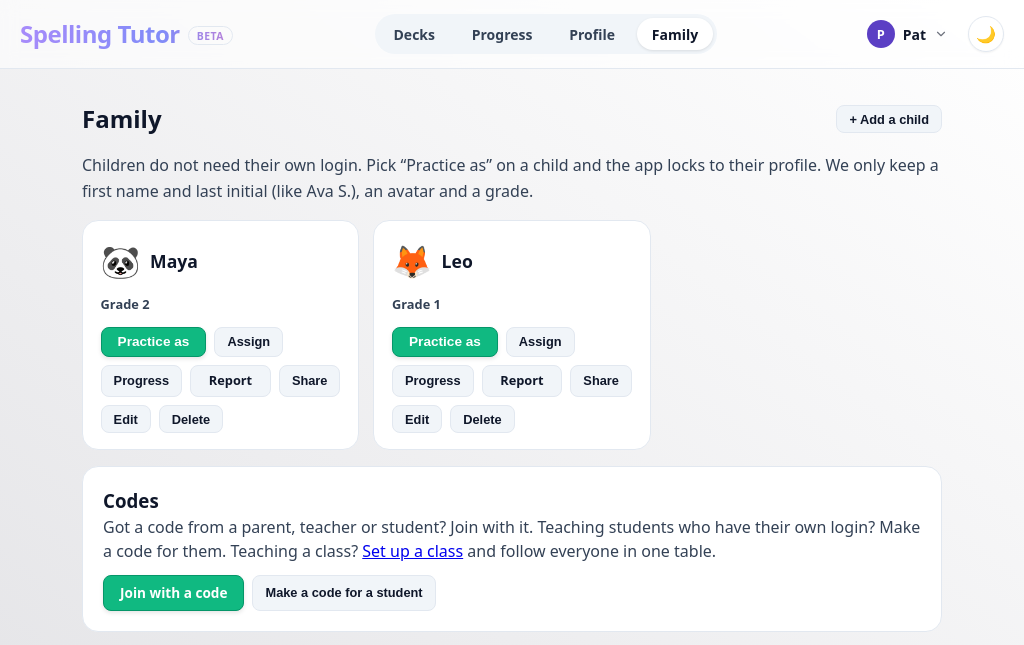
it: Family page › shows the server's reason when a name is refused
Click the button "+ Add a child" at (889, 119), box [836,105,942,133]
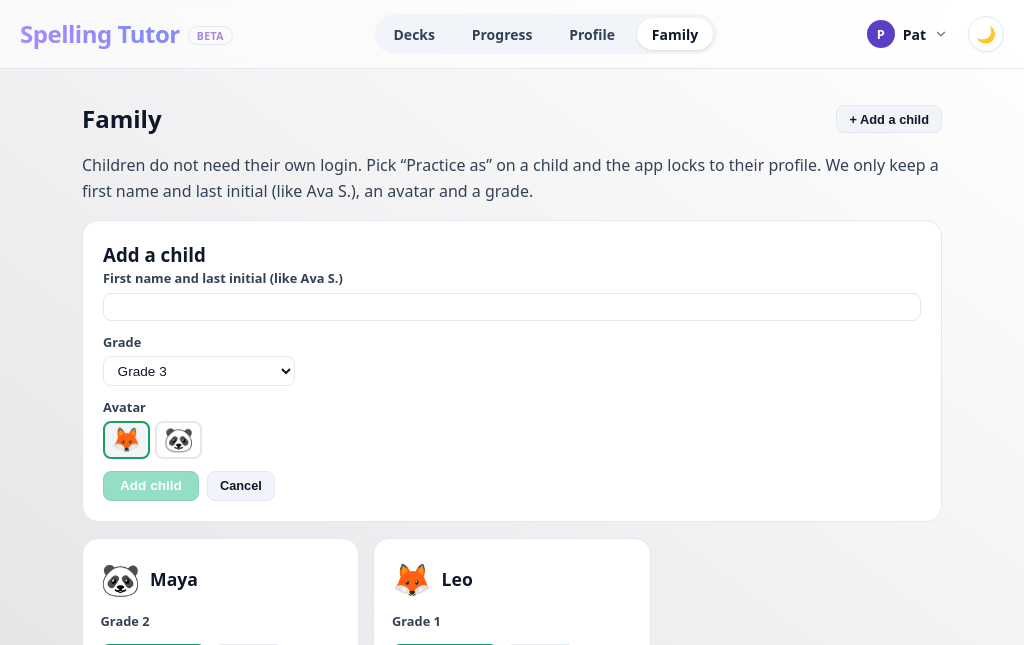
Type "a@b.co" into the field labelled "First name and last initial (like Ava S.)" at (512, 307), box [103,293,921,321]
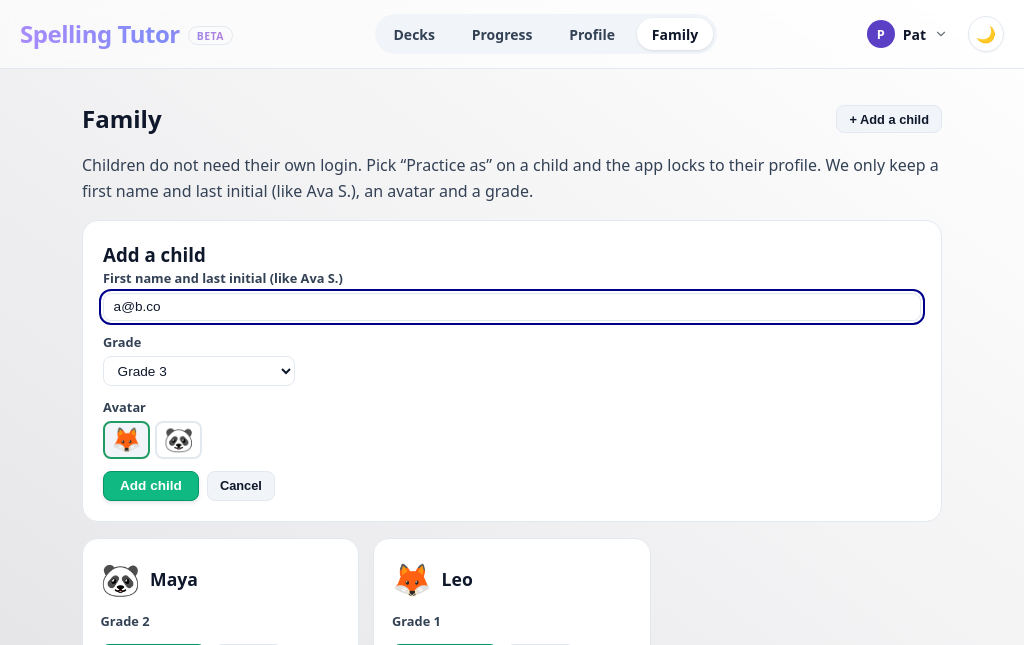
Click the button "Add child" at (151, 486), box [103,471,199,501]
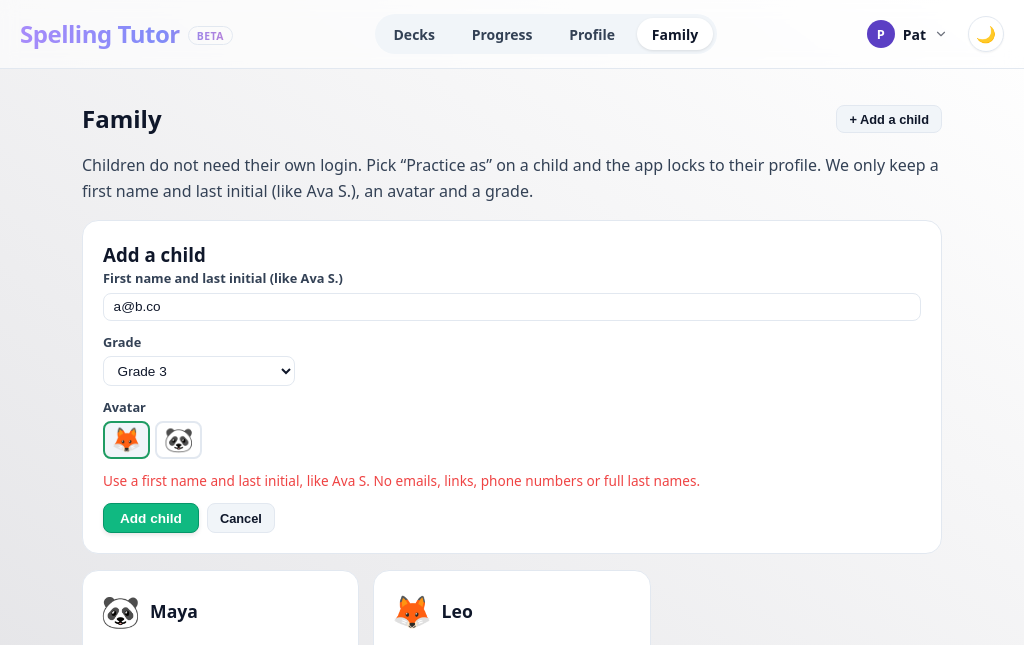
Result: the message shows "first name and last initial" at [103,471,700,490]
